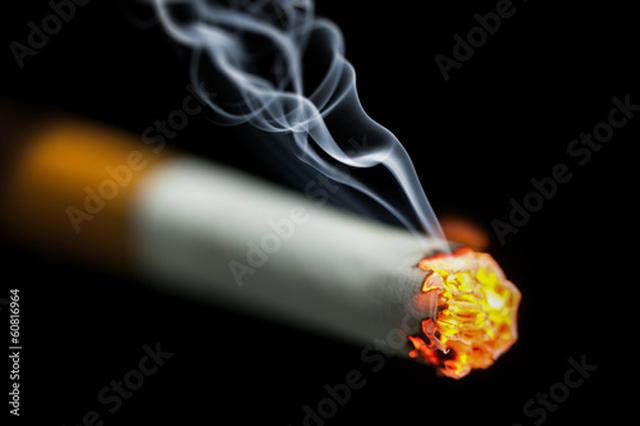Cigarette: (0, 112, 522, 380)
